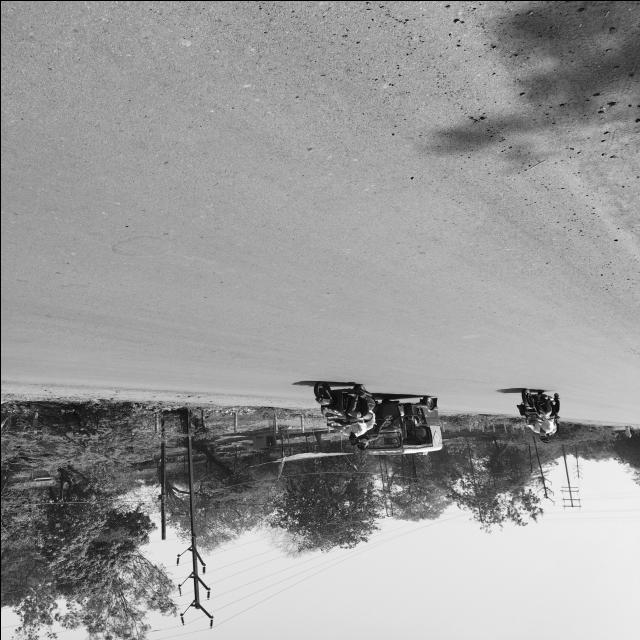Autorickshaw: (368, 399, 446, 453)
